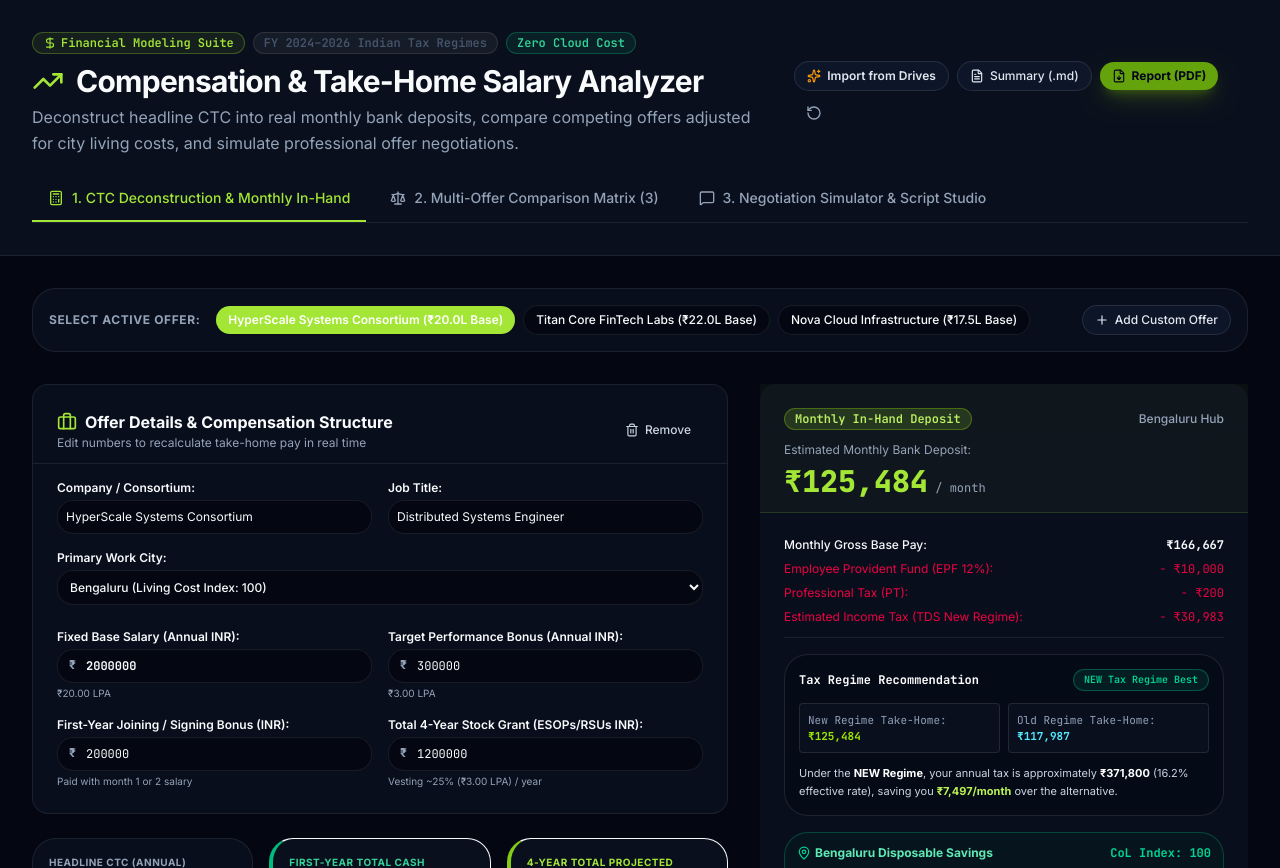
Test: CompensationAnalyzerPage › resets offer packages to default baseline when reset button is clicked
This screenshot has width=1280, height=868.
Click the button named "Reset Packages to Default" at (814, 113), box [794,99,834,127]
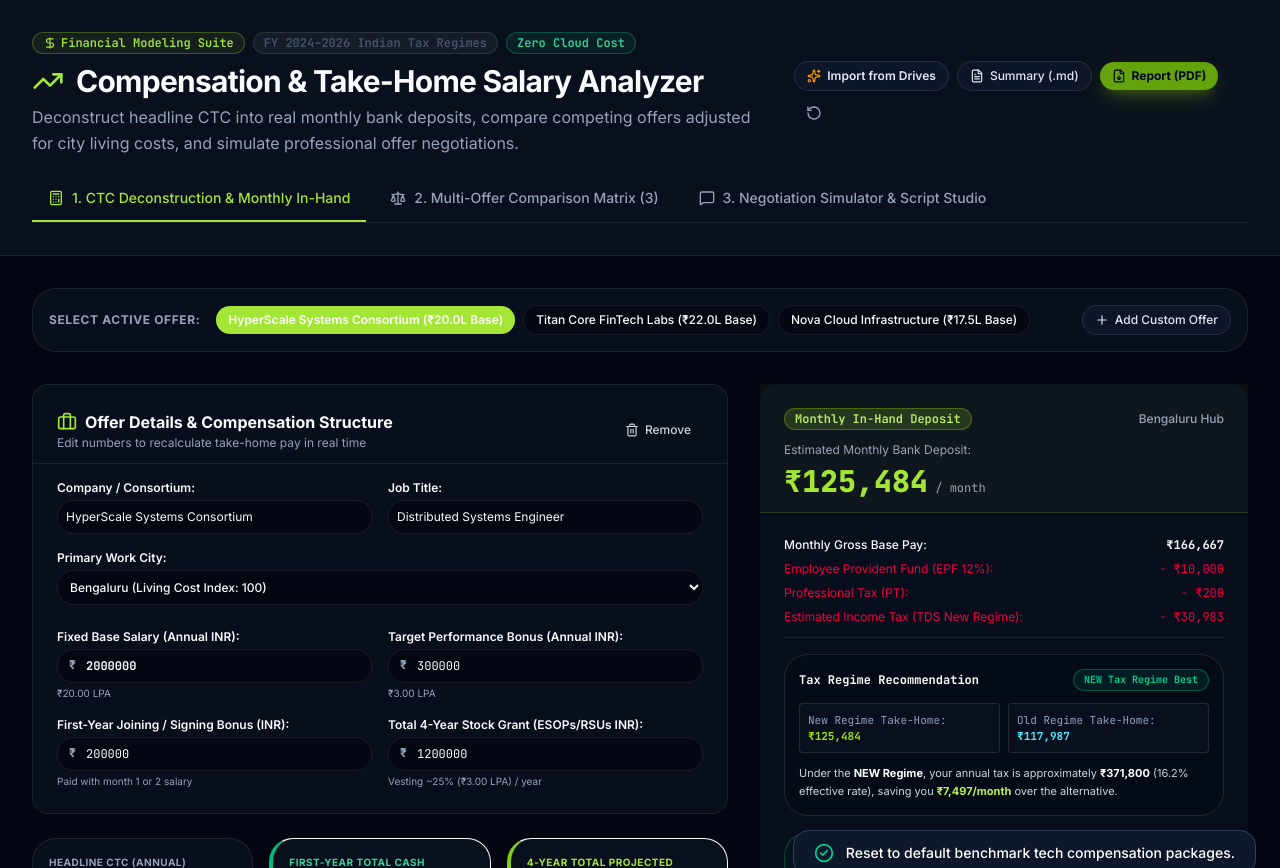
Result: the text "Reset to default benchmark tech compensation packages." is shown at [846,843,1235,863]
